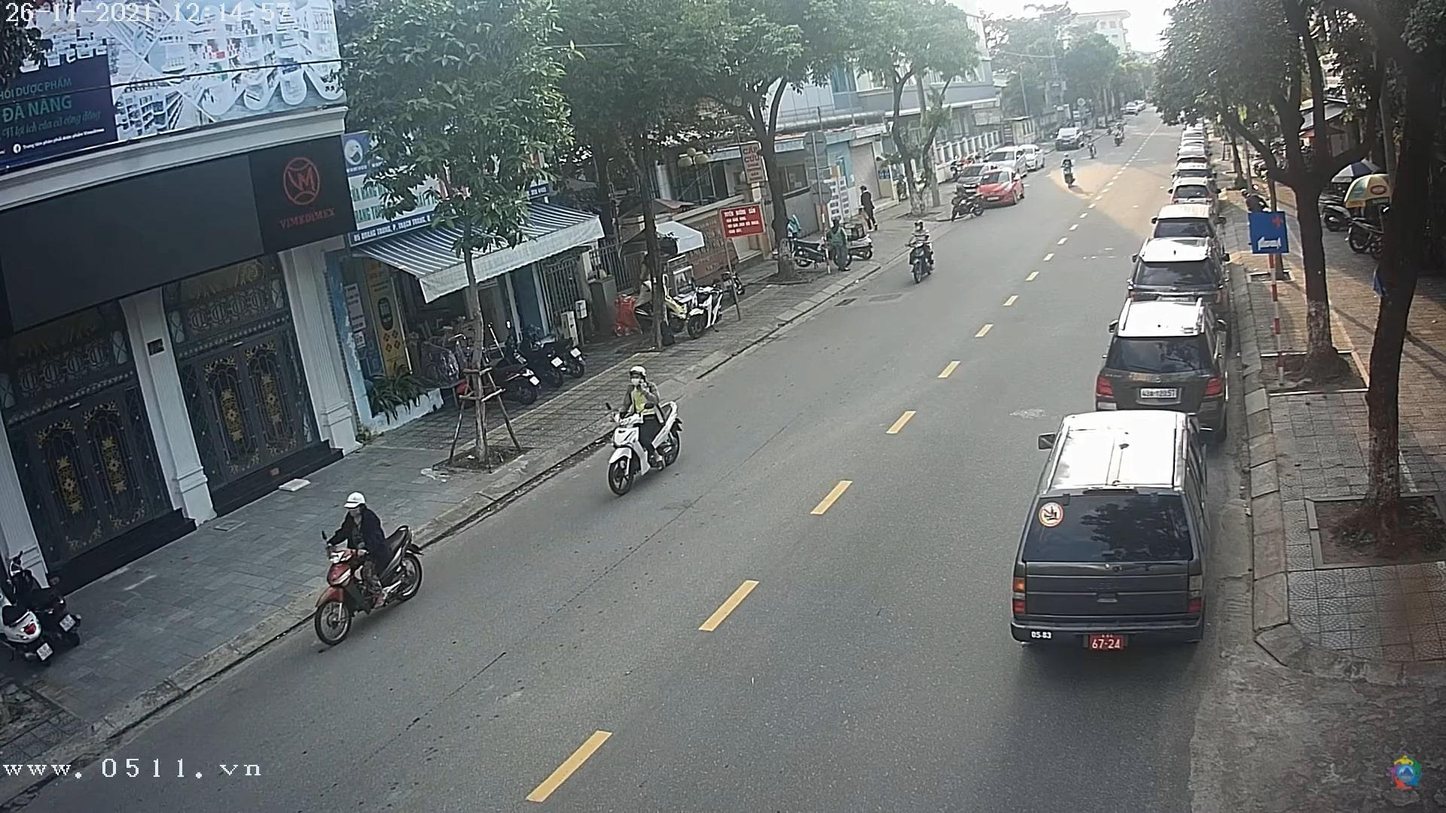motorbike: (313, 525, 423, 651), (603, 390, 682, 500), (905, 238, 938, 287)
